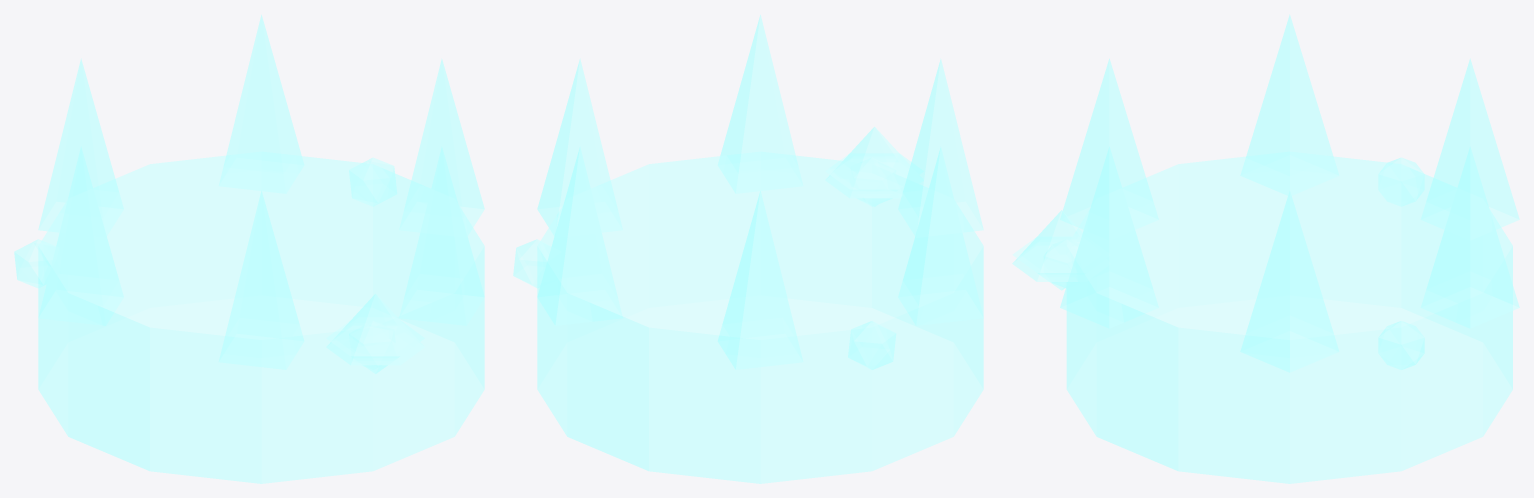
The model's file is GH_Product_Crown.fbx.
The picture shows the model from 3 angles, left to right: view 1: azimuth 30°, elevation 25°; view 2: azimuth 150°, elevation 25°; view 3: azimuth 270°, elevation 25°; orthographic projection.
Visible parts, largest first — view 1: SM_Product_Crown; view 2: SM_Product_Crown; view 3: SM_Product_Crown.
Boxes of the visible parts, box(x1,y1,x2,y2) form: SM_Product_Crown: box(14, 15, 484, 483); SM_Product_Crown: box(513, 15, 983, 483); SM_Product_Crown: box(1012, 14, 1519, 483).
Bounding box in the file's own units: 1.04 × 0.64 × 1.02.
